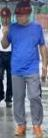boots: (5, 99, 12, 106), (0, 96, 5, 103)
hard-hat: (14, 1, 32, 14)
